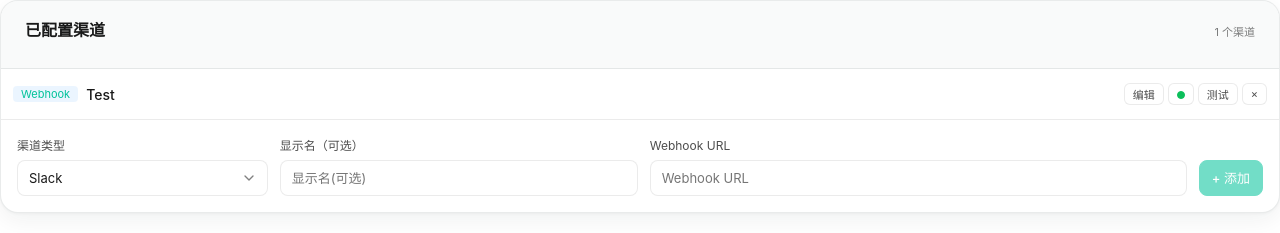
Scenario: NotifyChannelsPanel › 切换启用/禁用
This screenshot has width=1280, height=233.
Click the button titled "禁用": (1181, 94) [1168, 83, 1194, 105]
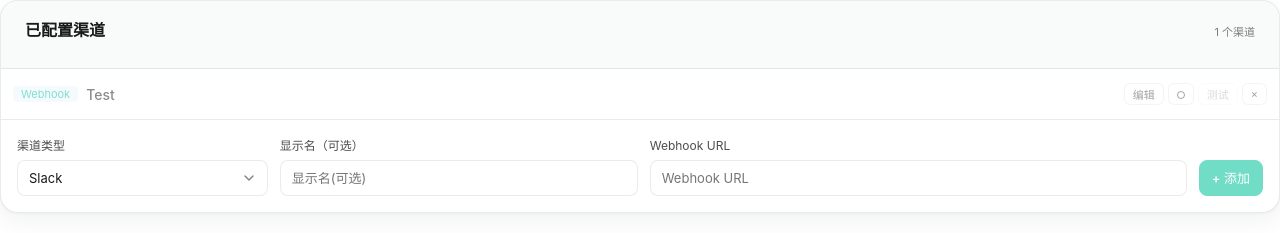
Check: the button titled "启用" is shown, box [1168, 83, 1194, 105]
